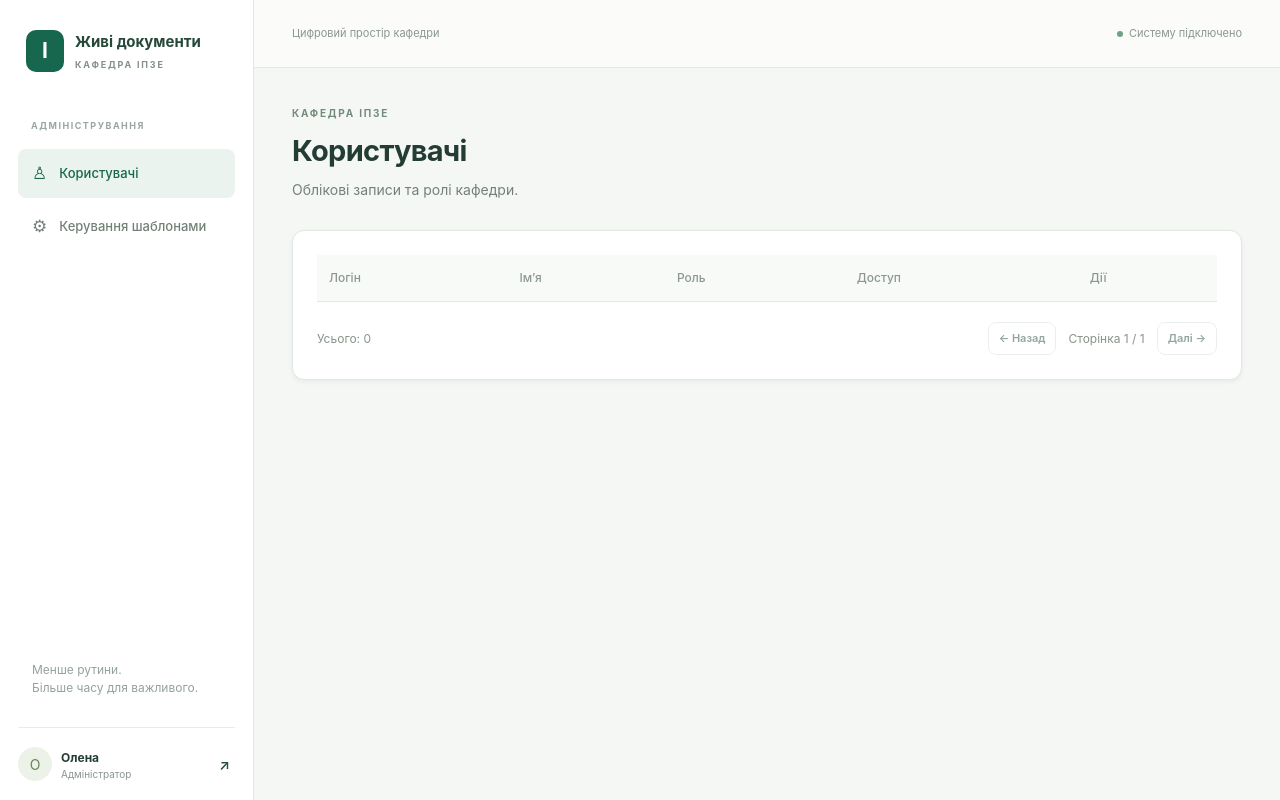
it: [module1] redirects the admin from a document URL to user administration
Expected: the heading "Користувачі" is shown, [292,133,467,168]
Expected: the text "Адміністратор" is shown, [61,767,131,782]
Click the link "⚙ Керування шаблонами".
click(119, 226)  # box [32,216,206,236]
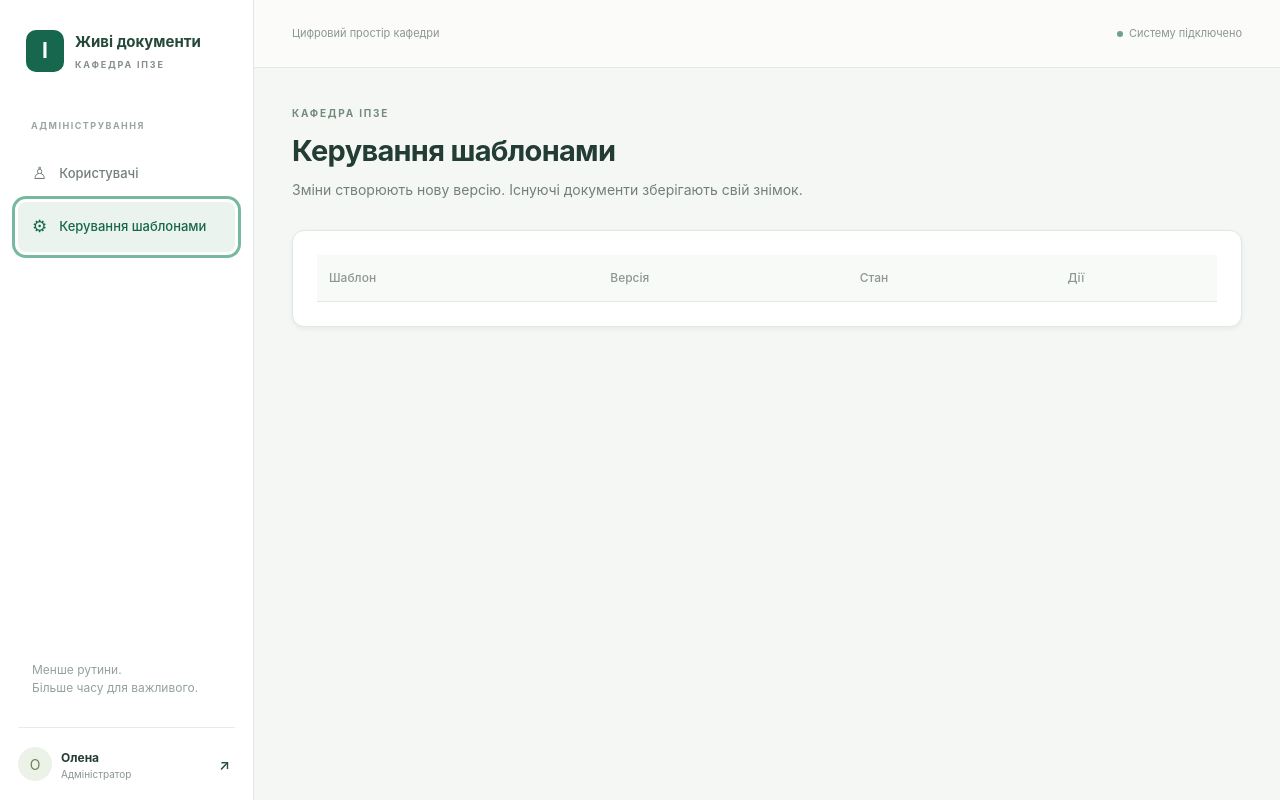
Expected: the heading "Керування шаблонами" is shown, [292,133,615,168]
